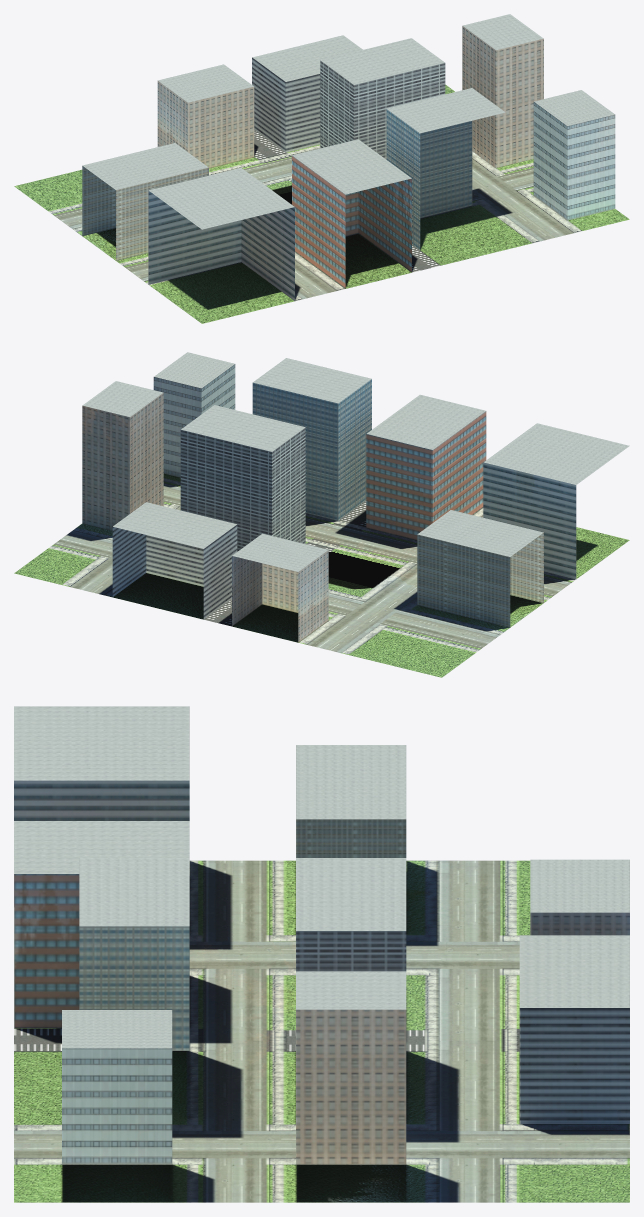
The model's file is site_20floor_transformed.dae.
The picture shows the model from 3 angles, top to bottom: view 1: azimuth 30°, elevation 25°; view 2: azimuth 150°, elevation 25°; view 3: azimuth 270°, elevation 25°; orthographic projection. The views are drawn at different scales.
Visible parts, largest first — view 1: buidlings20, Obj_012; view 2: buidlings20, Obj_012; view 3: buidlings20, Obj_012.
Part boxes in pixels (bbox=[...]): buidlings20: bbox=[82, 14, 615, 300]; Obj_012: bbox=[14, 84, 629, 323]; buidlings20: bbox=[82, 352, 629, 642]; Obj_012: bbox=[14, 473, 629, 677]; buidlings20: bbox=[14, 706, 629, 1164]; Obj_012: bbox=[14, 860, 629, 1202].
Bounding box in the file's own units: 760 × 579 × 200.
